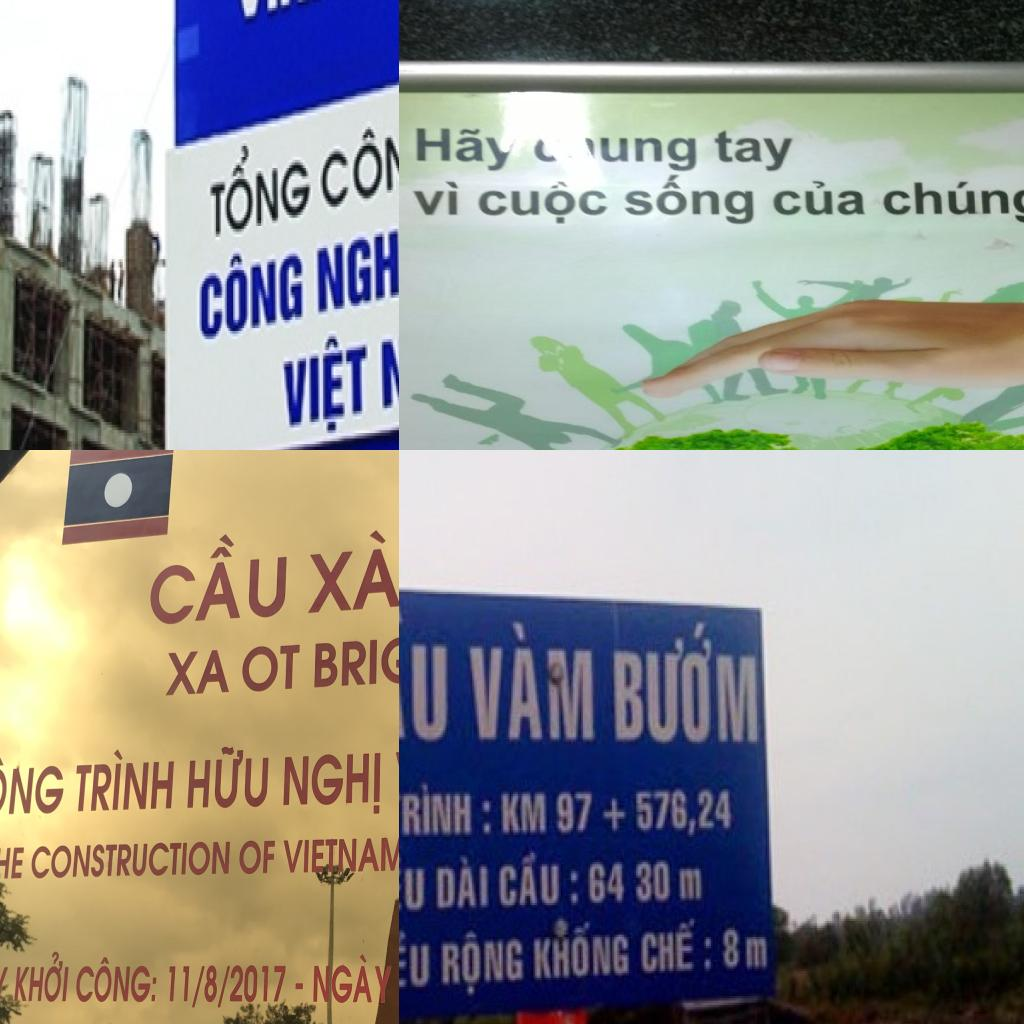text: (612, 619, 766, 751), (464, 612, 598, 748), (148, 529, 292, 627), (196, 240, 306, 353), (206, 132, 314, 245), (312, 195, 399, 333), (278, 322, 373, 446), (30, 838, 232, 884), (320, 107, 399, 220), (399, 591, 455, 748), (305, 530, 399, 616), (876, 172, 1024, 226), (618, 173, 757, 227), (440, 926, 528, 1005), (281, 748, 383, 816), (72, 749, 177, 814), (532, 921, 632, 987), (469, 180, 610, 225), (634, 782, 737, 840), (184, 744, 272, 810), (405, 121, 521, 170), (399, 782, 492, 841), (498, 853, 581, 919), (306, 950, 392, 1011), (643, 916, 716, 984), (312, 631, 399, 688), (280, 835, 399, 876), (768, 178, 870, 224), (75, 956, 159, 1009), (598, 131, 703, 173), (636, 855, 713, 912), (0, 753, 65, 820), (713, 125, 800, 173), (163, 644, 232, 699), (237, 640, 303, 696), (12, 952, 74, 1011), (433, 853, 492, 914), (227, 962, 291, 1009), (586, 855, 632, 917), (404, 176, 468, 219), (399, 930, 436, 998), (500, 789, 552, 837), (556, 780, 595, 840), (399, 850, 429, 918), (235, 832, 278, 879), (164, 958, 195, 1009), (0, 836, 28, 883), (186, 960, 209, 1013), (200, 962, 222, 1013), (602, 794, 629, 832), (215, 962, 232, 1013)
